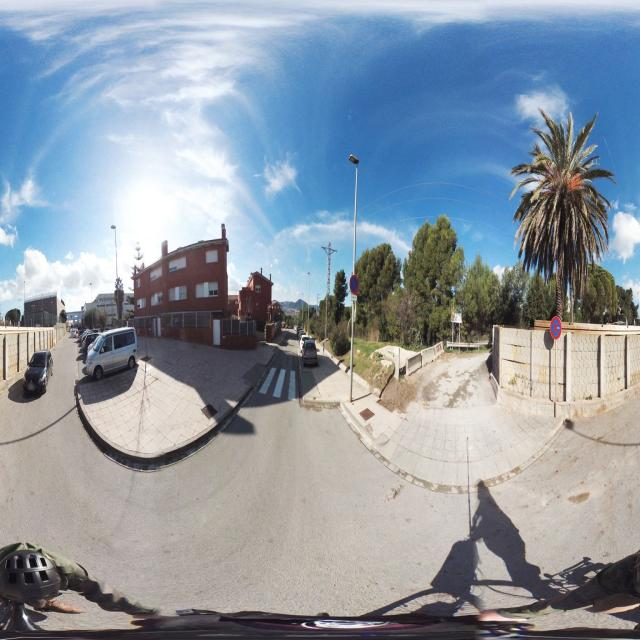forb_stopping: (349, 275, 359, 294)
forb_waiting: (550, 317, 562, 342)
